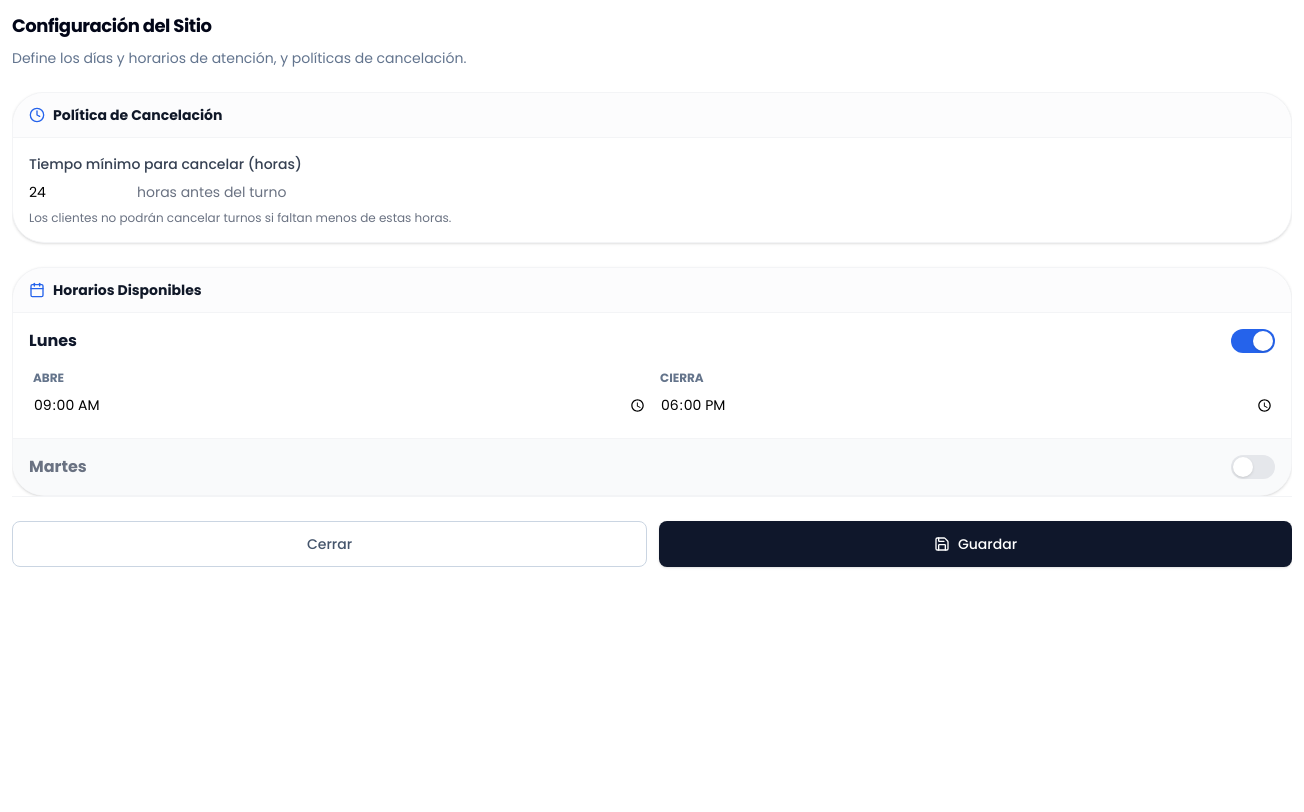
Test case: SettingsSidebar › saves settings and cancellation policy successfully
Replace the text in the number field labelled "Tiempo mínimo para cancelar (horas)" with "48" at [79, 192], box [29,182,129,202]
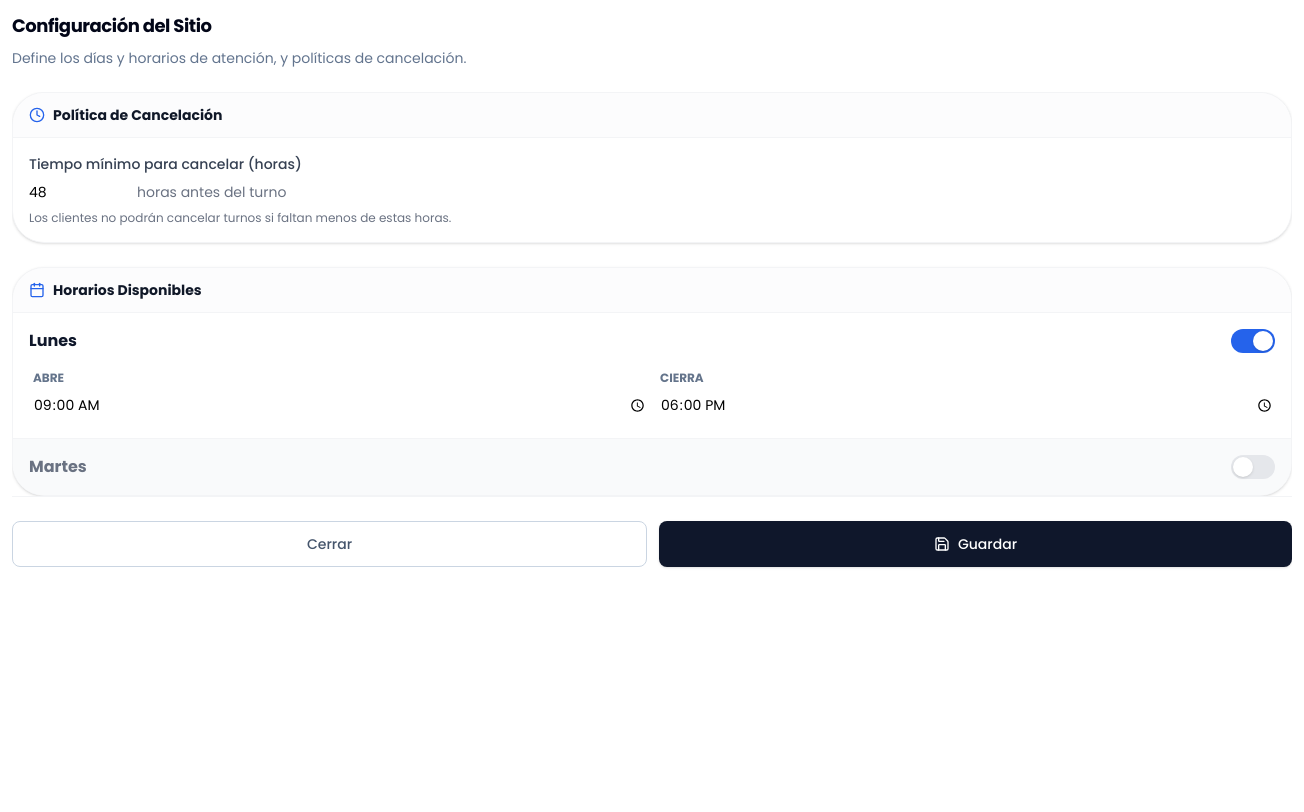
Click the button "Guardar" at [976, 544], box [659,521,1292,567]
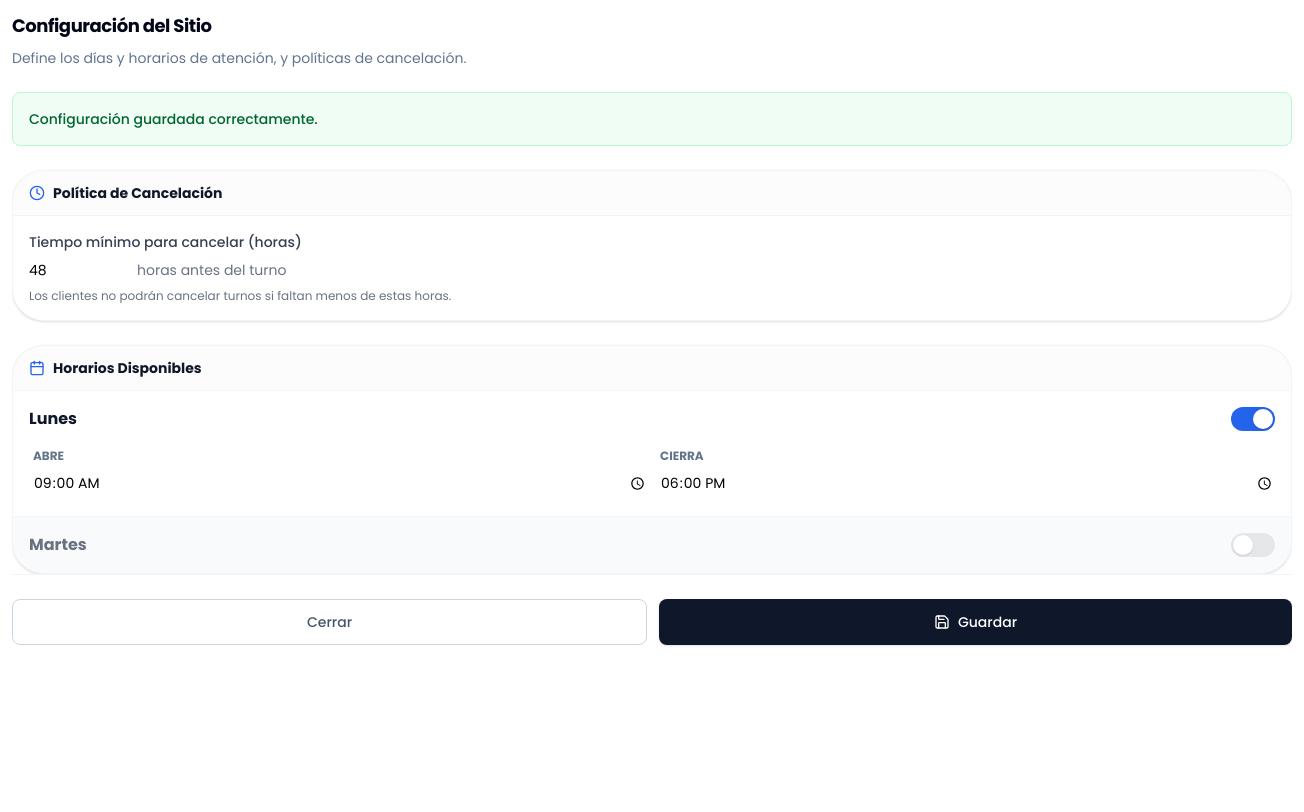
Check: the text "Configuración guardada correctamente." is shown, box [12,92,1292,146]
